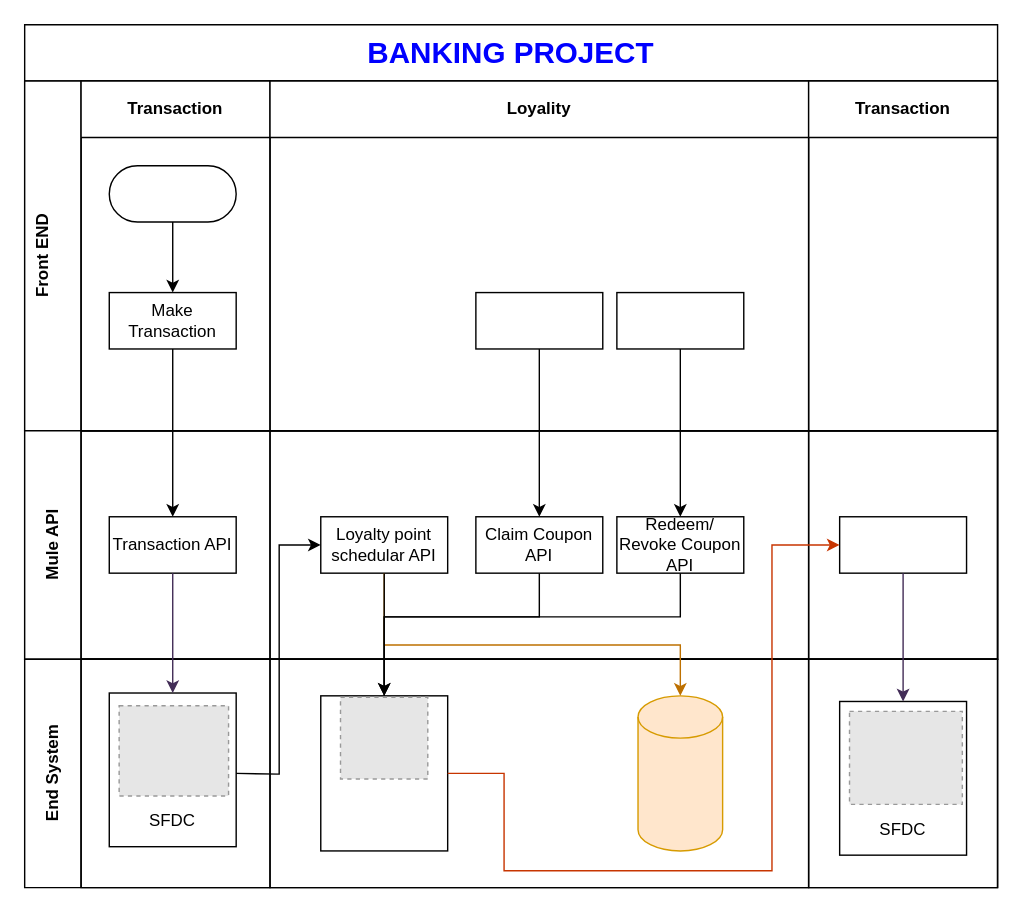
The diagram is 1022 pixels wide and 912 high, and some of its shapes have lost their labels. Grey dashed boxes stand in for pictures. The shapes that lost their labels are listed below. From the top down, each one's box as (x1, y1, x2, y2) in pixels, then its label:
(108, 164, 236, 222): Start
(474, 291, 603, 349): Claim Coupon
(615, 291, 744, 349): Redeem/ Revoke Coupon
(838, 515, 967, 573): Reward Sync Scheduler API
(319, 694, 448, 851): Loyalty point 3rd Party API (KGLM System)
(637, 694, 723, 851): MySQL DB
